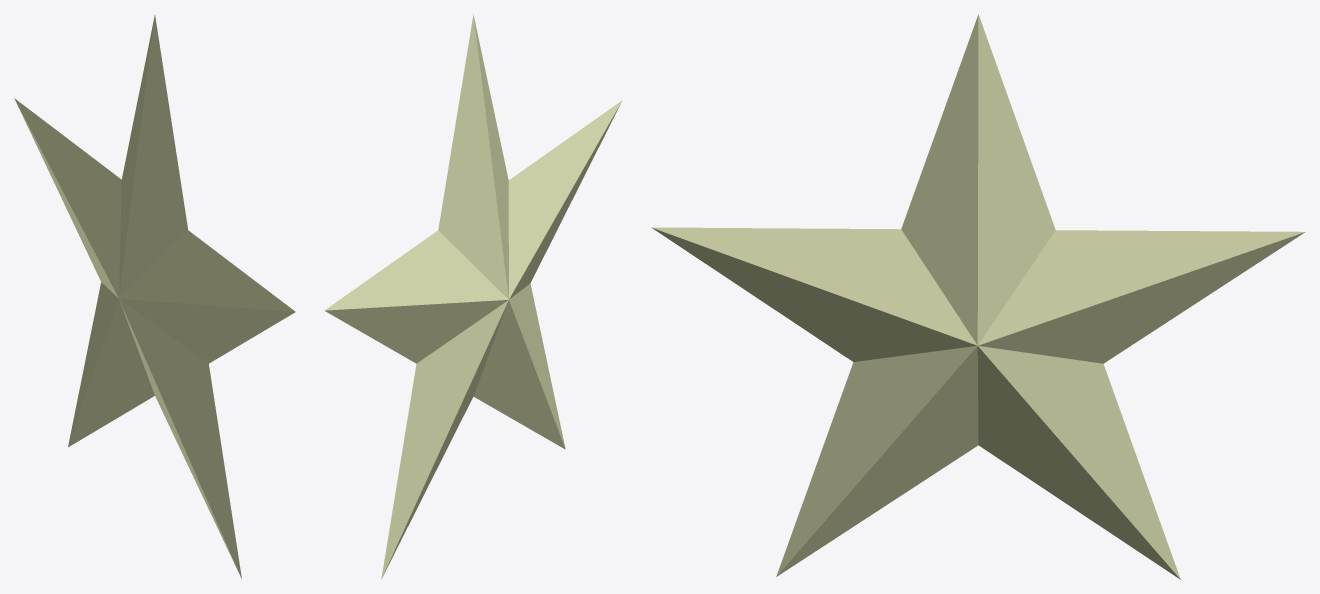
The model's file is star.fbx.
3 views of the same model, side by side, from view 1: azimuth 30°, elevation 25°; view 2: azimuth 150°, elevation 25°; view 3: azimuth 270°, elevation 25° (orthographic). The views are drawn at different scales.
Visible parts, largest first — view 1: star; view 2: star; view 3: star.
Part boxes in pixels (box(x1,y1,x2,y2)): star: box(14, 15, 295, 578); star: box(324, 14, 622, 579); star: box(651, 14, 1305, 579).
Bounding box in the file's own units: 0.2832 × 1.89 × 1.99.
